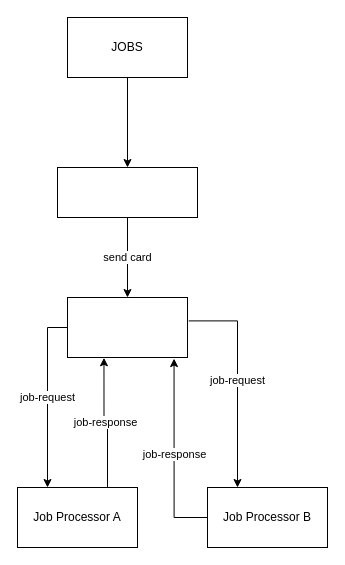
Some shapes in this 345 by 565 pixel diagram are drawn without their labels. Here are the shapes that lost their labels. From the top down, the box of each, then its label:
(56, 166, 198, 218): Job Service
(66, 296, 188, 358): KAFKA
